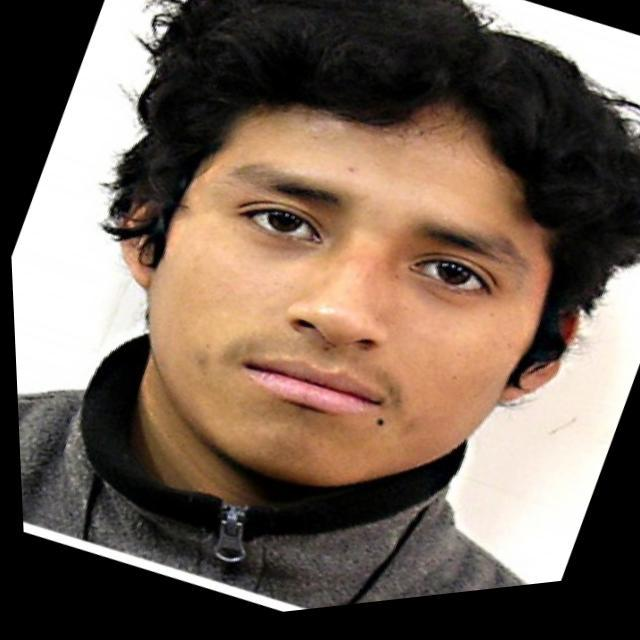Nonhelmet: (134, 3, 600, 500)
